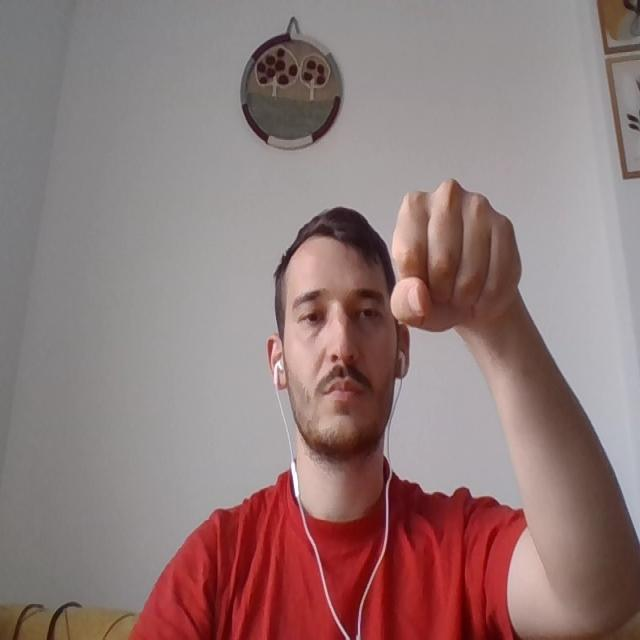yes: (396, 176, 534, 346)
